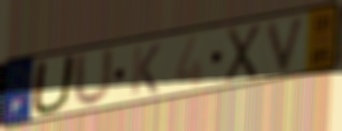4: (172, 33, 206, 90)
K: (129, 41, 163, 98)
U: (28, 53, 81, 117), (72, 45, 116, 109)
V: (264, 13, 309, 75)
X: (222, 21, 263, 86)
